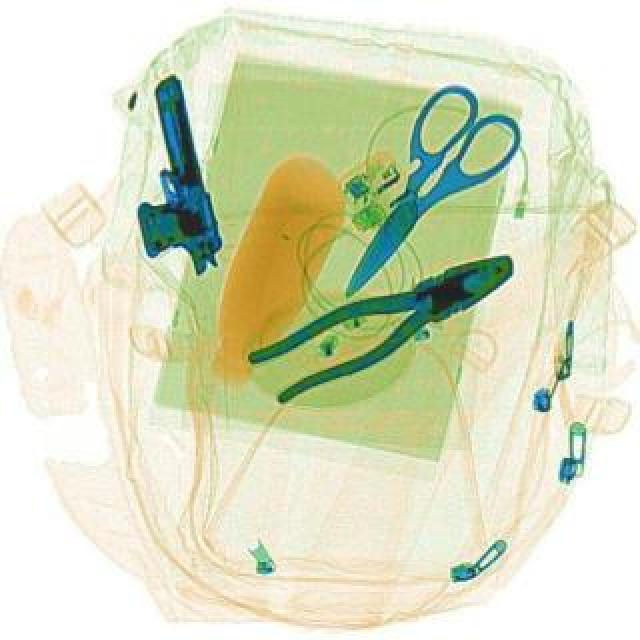gun: (100, 72, 228, 284)
pliers: (298, 74, 534, 326)
wrench: (240, 236, 530, 408)
